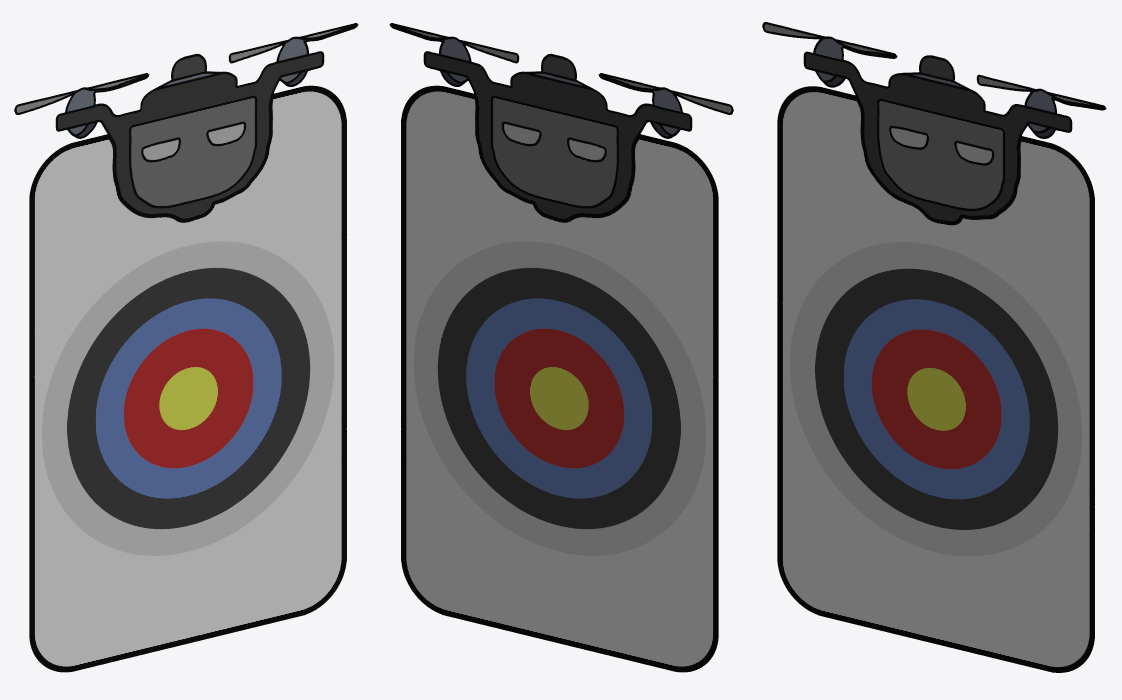
File: drone target.fbx
The picture shows the model from 3 angles, left to right: view 1: azimuth 30°, elevation 25°; view 2: azimuth 150°, elevation 25°; view 3: azimuth 330°, elevation 25°; orthographic projection.
Parts seen in each view (by area): view 1: drone targer.005, drone targer.007, drone targer.006, drone targer.002, drone targer.003, drone targer.008, drone targer.001, drone targer.010, drone targer.012, drone targer.013, drone targer.004, drone targer.011 (+2 smaller); view 2: drone targer.005, drone targer.007, drone targer.006, drone targer.002, drone targer.003, drone targer.008, drone targer.001, drone targer.010, drone targer.012, drone targer.013, drone targer.004, drone targer.011 (+2 smaller); view 3: drone targer.005, drone targer.007, drone targer.006, drone targer.002, drone targer.003, drone targer.008, drone targer.001, drone targer.010, drone targer.012, drone targer.013, drone targer.004, drone targer.011 (+2 smaller).
Boxes of the visible parts, left/top/right/bottom form: drone targer.005: left=259, top=237, right=346, bottom=475; drone targer.007: left=115, top=259, right=273, bottom=514; drone targer.006: left=100, top=259, right=258, bottom=513; drone targer.002: left=101, top=64, right=258, bottom=297; drone targer.003: left=174, top=23, right=355, bottom=258; drone targer.008: left=29, top=298, right=114, bottom=514; drone targer.001: left=17, top=73, right=165, bottom=296; drone targer.010: left=33, top=515, right=200, bottom=672; drone targer.012: left=115, top=476, right=272, bottom=639; drone targer.013: left=201, top=476, right=342, bottom=640; drone targer.004: left=259, top=23, right=358, bottom=258; drone targer.011: left=29, top=493, right=114, bottom=652; drone targer.005: left=401, top=237, right=488, bottom=475; drone targer.007: left=474, top=259, right=632, bottom=514; drone targer.006: left=489, top=259, right=647, bottom=513; drone targer.002: left=489, top=64, right=646, bottom=297; drone targer.003: left=392, top=23, right=573, bottom=258; drone targer.008: left=633, top=298, right=718, bottom=514; drone targer.001: left=582, top=73, right=730, bottom=296; drone targer.010: left=547, top=515, right=714, bottom=672; drone targer.012: left=475, top=476, right=632, bottom=639; drone targer.013: left=405, top=476, right=546, bottom=640; drone targer.004: left=389, top=23, right=488, bottom=258; drone targer.011: left=633, top=493, right=718, bottom=652; drone targer.005: left=1007, top=294, right=1094, bottom=535; drone targer.007: left=863, top=294, right=1021, bottom=517; drone targer.006: left=848, top=255, right=1006, bottom=478; drone targer.002: left=848, top=58, right=1006, bottom=293; drone targer.003: left=922, top=55, right=1103, bottom=293; drone targer.008: left=777, top=255, right=862, bottom=478; drone targer.001: left=765, top=22, right=913, bottom=254; drone targer.010: left=781, top=480, right=948, bottom=647; drone targer.012: left=863, top=479, right=1020, bottom=646; drone targer.013: left=949, top=518, right=1090, bottom=672; drone targer.004: left=1007, top=105, right=1106, bottom=315; drone targer.011: left=777, top=417, right=862, bottom=578.
Size of the model in its own units: 137 by 224 by 1.19e-05.
1 material, 1 textured.
